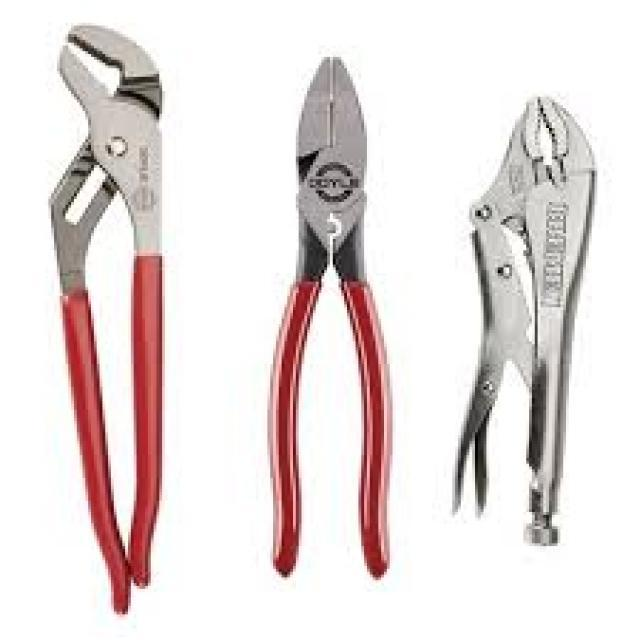pliers: (39, 11, 174, 624), (256, 46, 404, 589), (439, 88, 606, 557)
